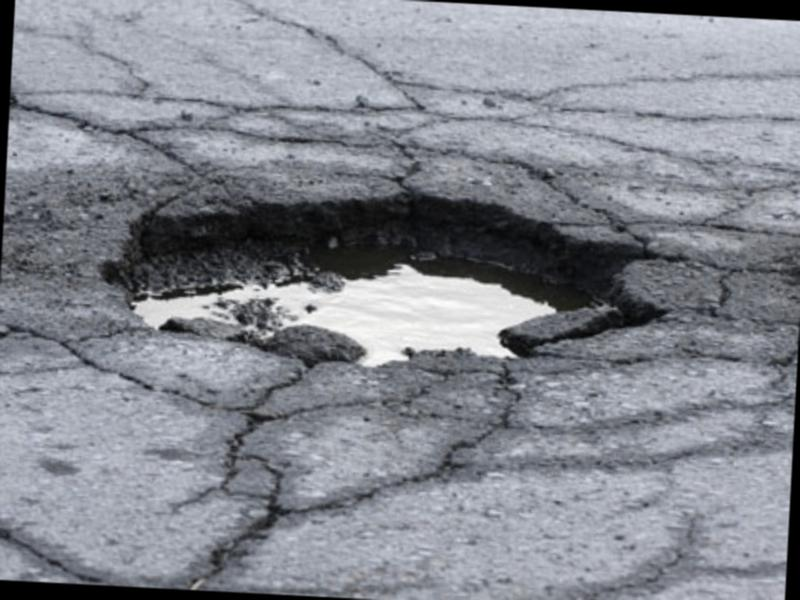pothole: (0, 0, 800, 600), (43, 146, 709, 441)
